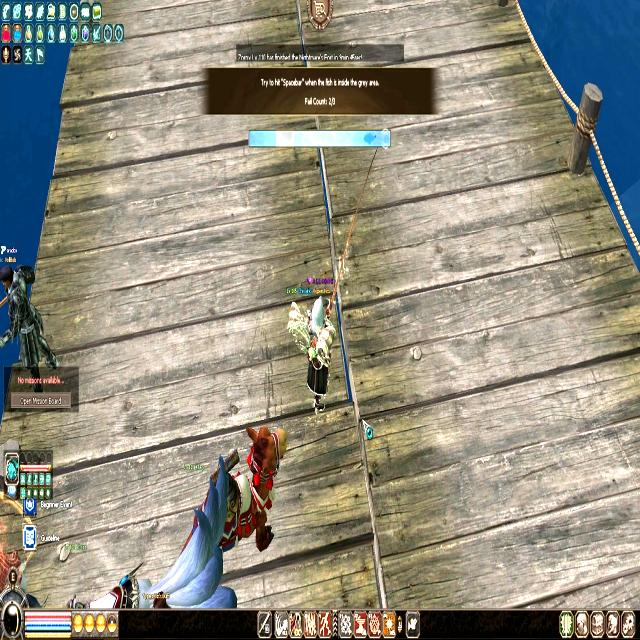fishes: (363, 131, 376, 147)
